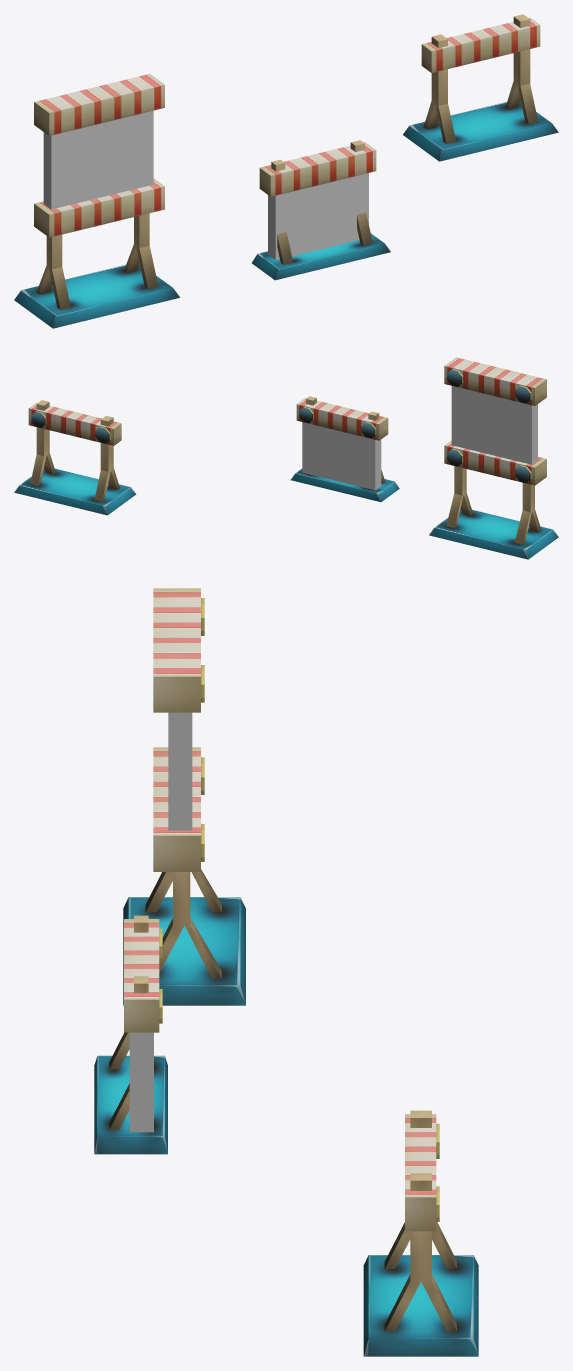
Rendered from chan1(1).fbx.
The picture shows the model from 3 angles, top to bottom: view 1: azimuth 30°, elevation 25°; view 2: azimuth 150°, elevation 25°; view 3: azimuth 270°, elevation 25°; orthographic projection. The views are drawn at different scales.
Visible parts, largest first — view 1: pCube142, pCube22, pCube59; view 2: pCube142, pCube22, pCube59; view 3: pCube142, pCube59, pCube22.
Boxes of the visible parts, x1=… form: pCube142: x1=14, y1=74, x2=179, y2=328; pCube22: x1=252, y1=140, x2=390, y2=280; pCube59: x1=403, y1=14, x2=558, y2=161; pCube142: x1=429, y1=357, x2=558, y2=559; pCube22: x1=290, y1=396, x2=399, y2=501; pCube59: x1=14, y1=400, x2=136, y2=515; pCube142: x1=123, y1=588, x2=245, y2=1005; pCube59: x1=363, y1=1110, x2=478, y2=1356; pCube22: x1=94, y1=915, x2=167, y2=1154.
Bounding box in the file's own units: 18.95 × 6.51 × 6.91.
